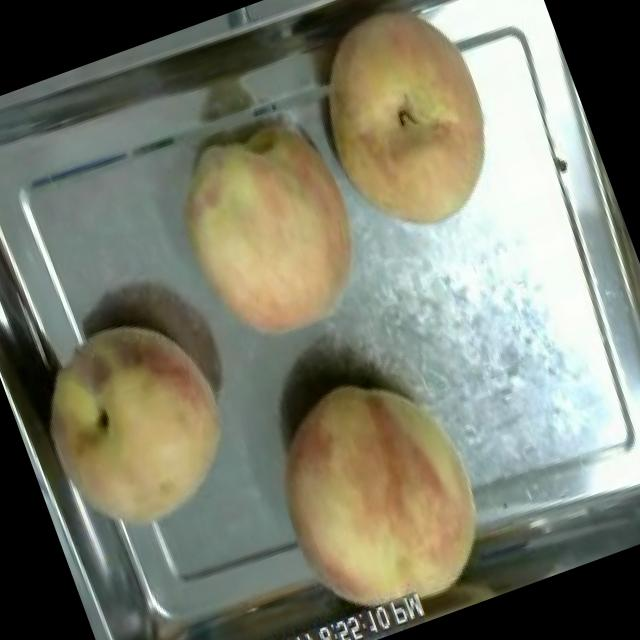Fruit: (240, 345, 519, 640), (5, 289, 263, 563), (147, 98, 397, 372), (278, 0, 529, 260)
